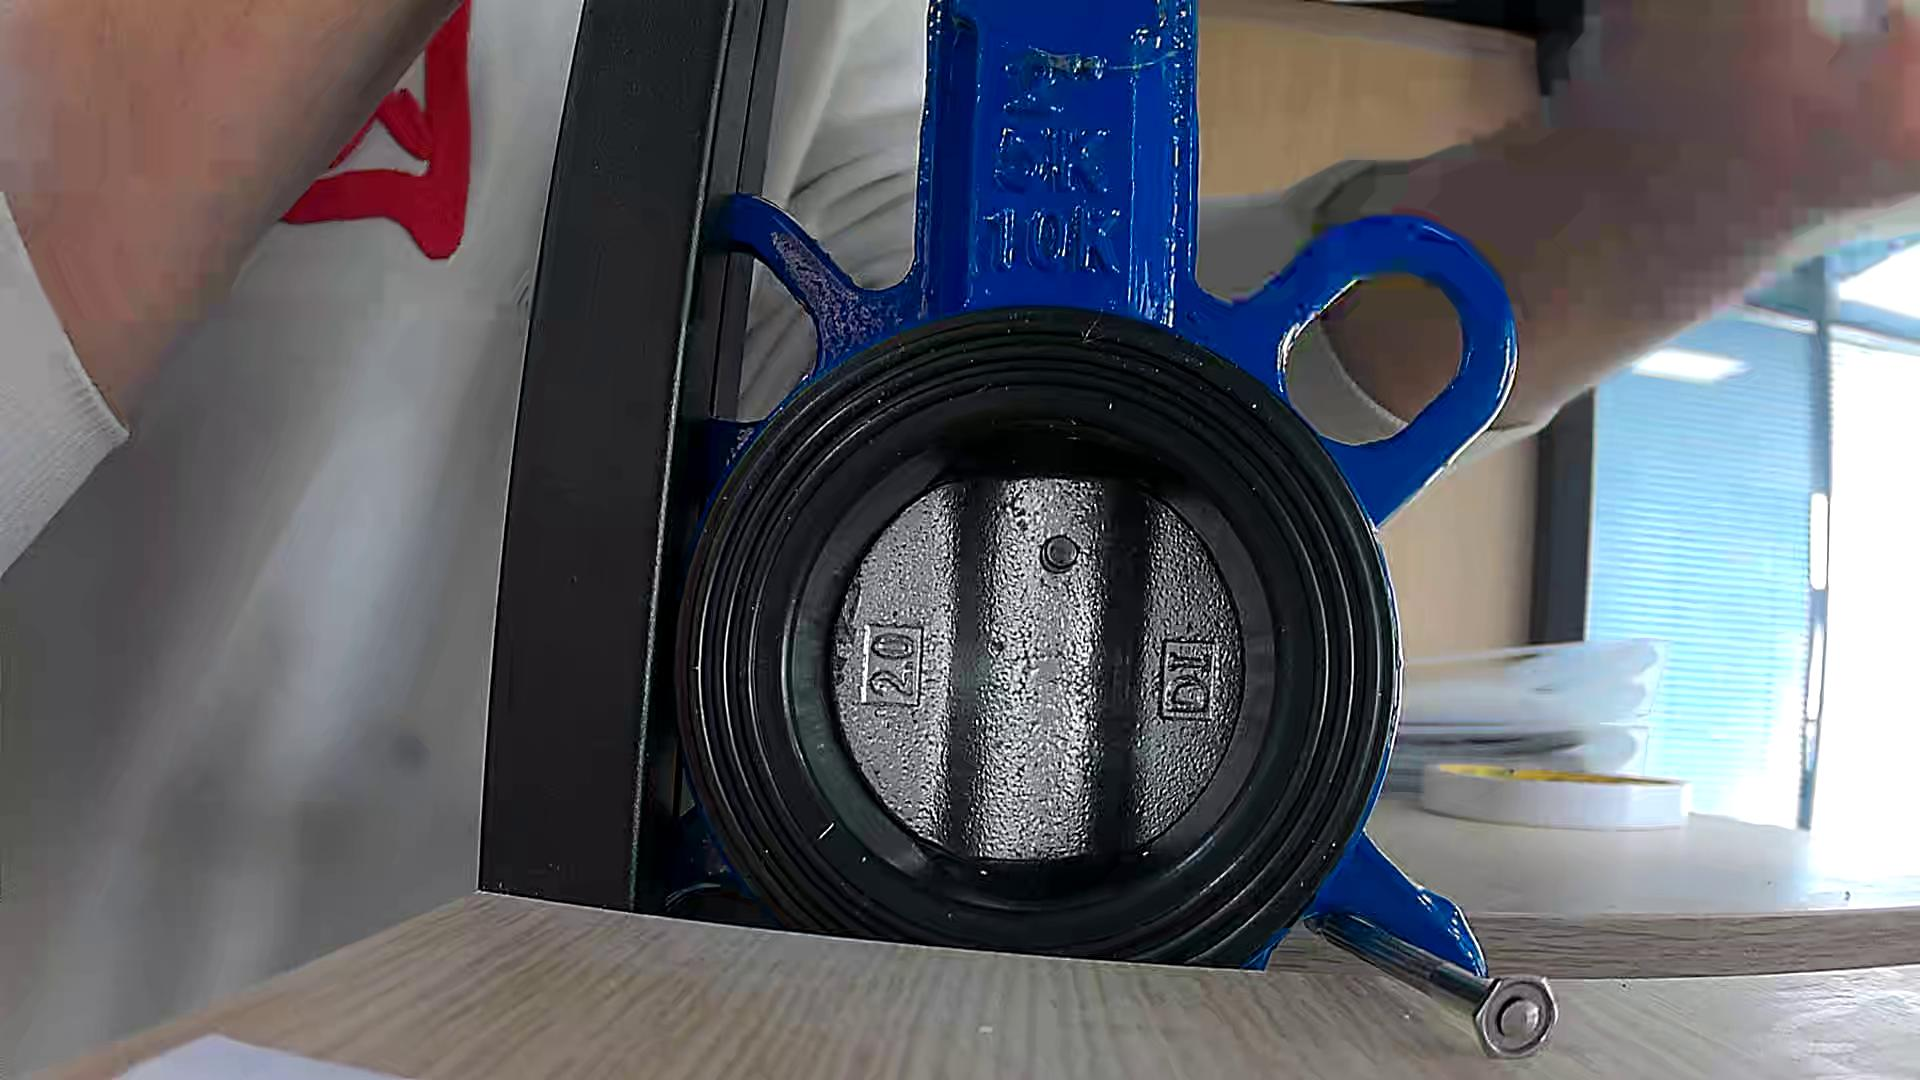valve: (832, 476, 1241, 862)
